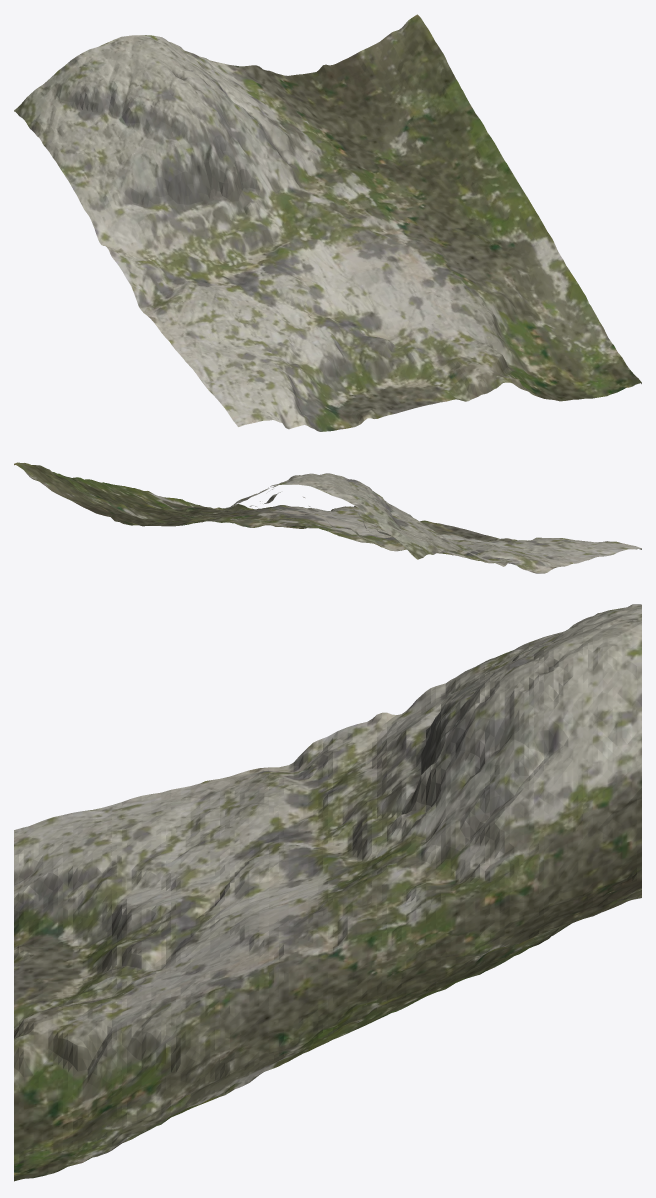
The picture shows the model from 3 angles, top to bottom: view 1: azimuth 30°, elevation 25°; view 2: azimuth 150°, elevation 25°; view 3: azimuth 270°, elevation 25°; orthographic projection. The views are drawn at different scales.
Bounding box in the file's own units: 250 × 154 × 241.
1 material, 1 textured.
